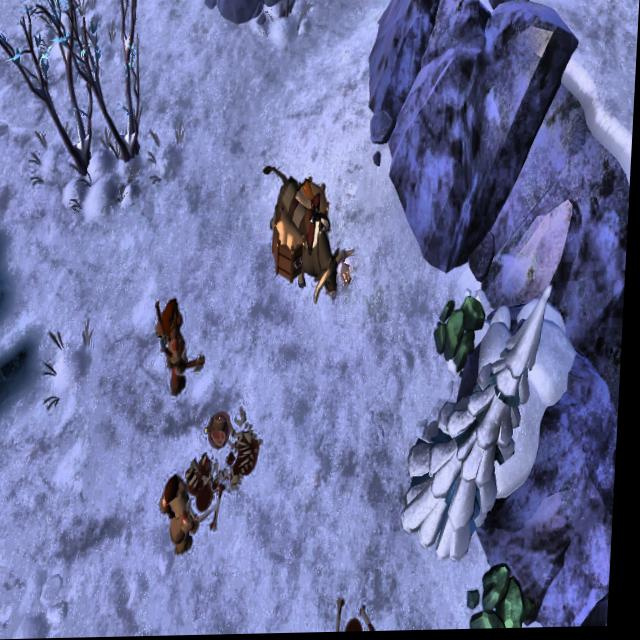enemy_factionKeeper: (153, 298, 208, 398)
rock_t3: (467, 554, 543, 631), (433, 289, 488, 376)
